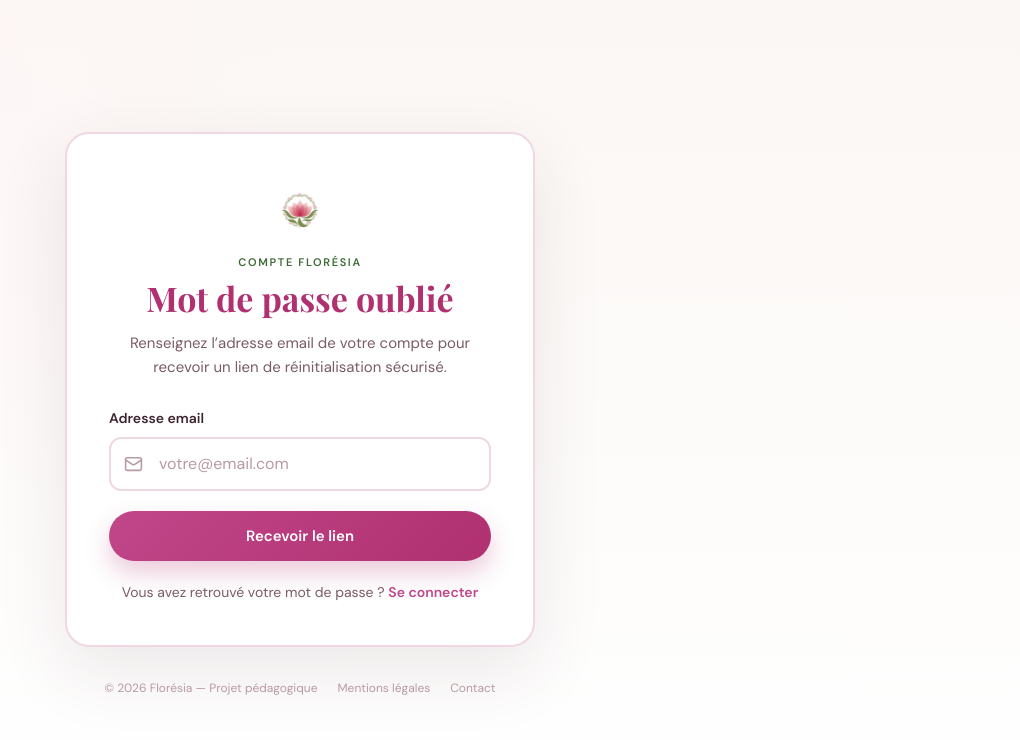
Scenario: Flora et récupération de compte › signale une erreur de récupération du compte
This screenshot has width=1020, height=740.
In the field with placeholder "votre@email.com": (300, 464) [109,437,491,491], type "flora@example.test"
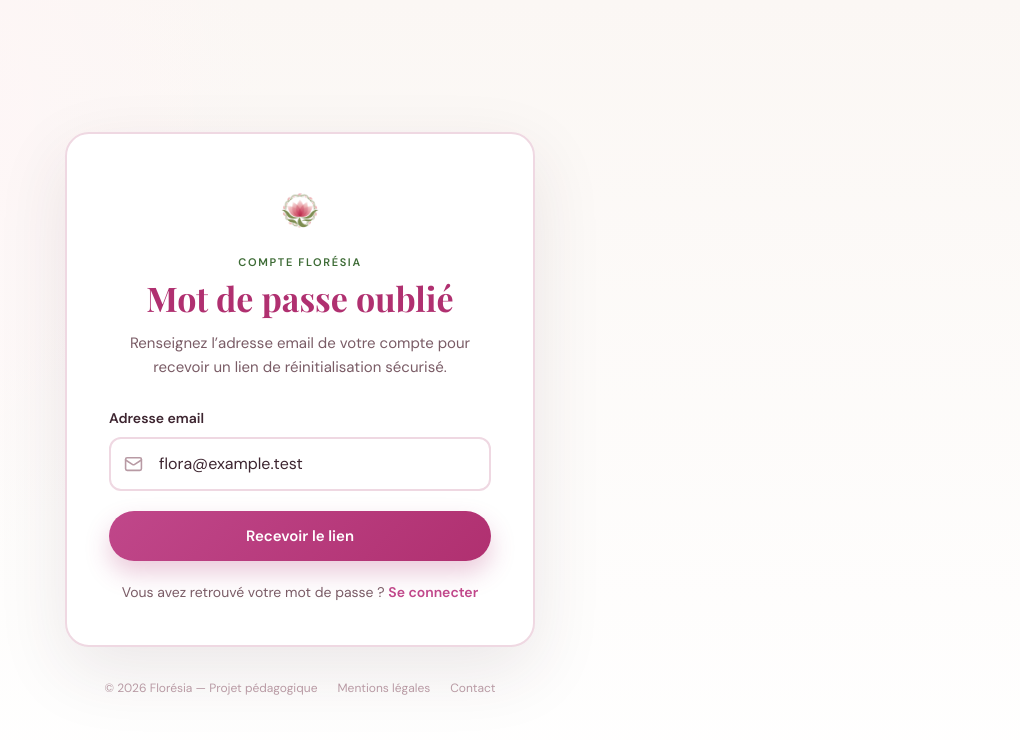
Click the button "Recevoir le lien": (300, 536) [109,511,491,561]
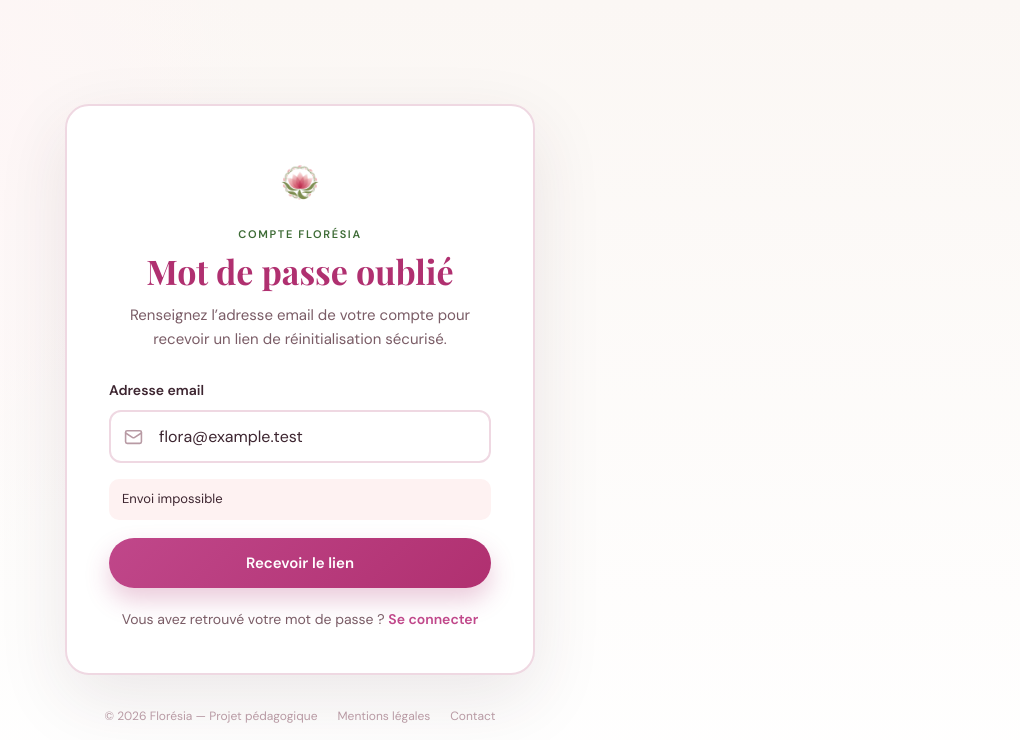
Now the text "Envoi impossible" is shown, box [109,480,491,520]
